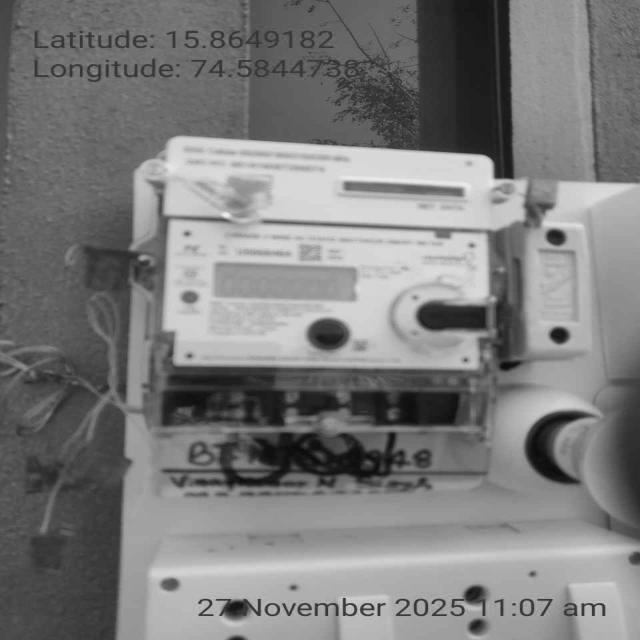meter: (164, 135, 493, 369)
